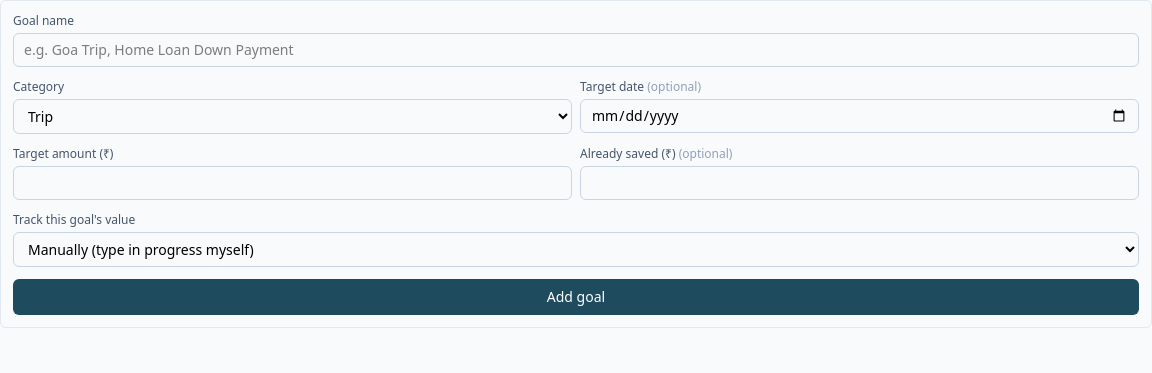
Test: GoalForm › submit › shows an error and keeps the form filled in (not reset) when the save fails
In the field labelled "Goal name": (576, 50) x1=13 y1=33 x2=1139 y2=67, type "Goa Trip"
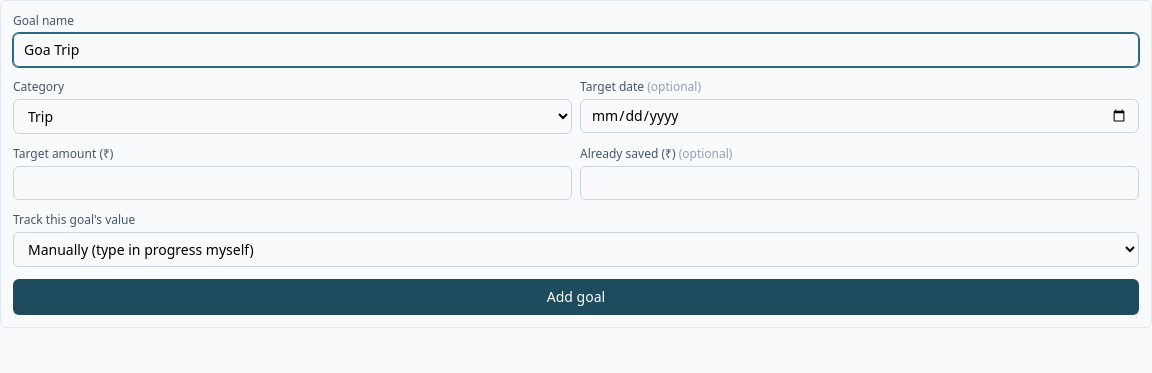
In the number field labelled "Target amount (₹)": (292, 183) x1=13 y1=166 x2=572 y2=200, type "100000"
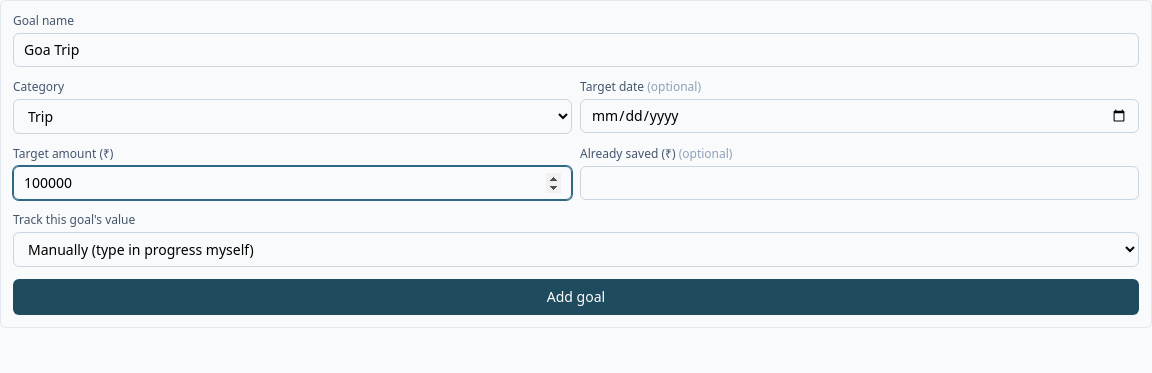
Click the button "Add goal": click(576, 297) x1=13 y1=279 x2=1139 y2=315
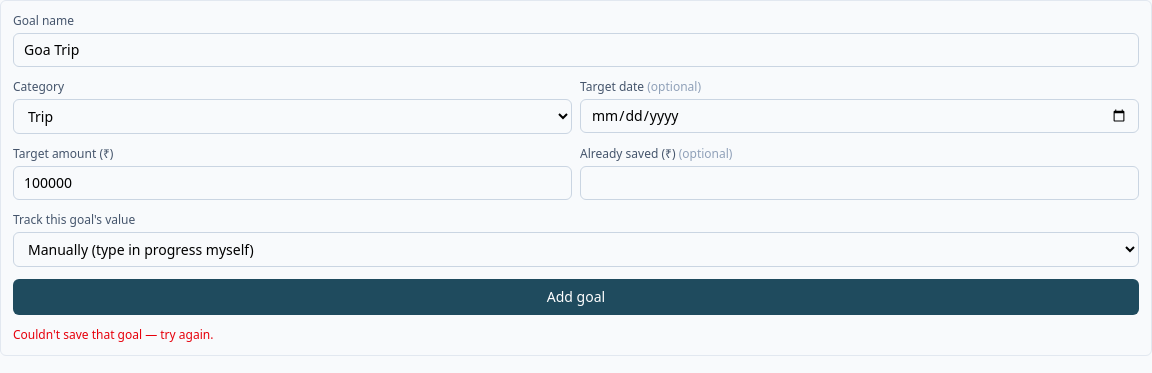
Check: the text "Couldn't save that goal — try again." is shown, box x1=13 y1=326 x2=213 y2=343
